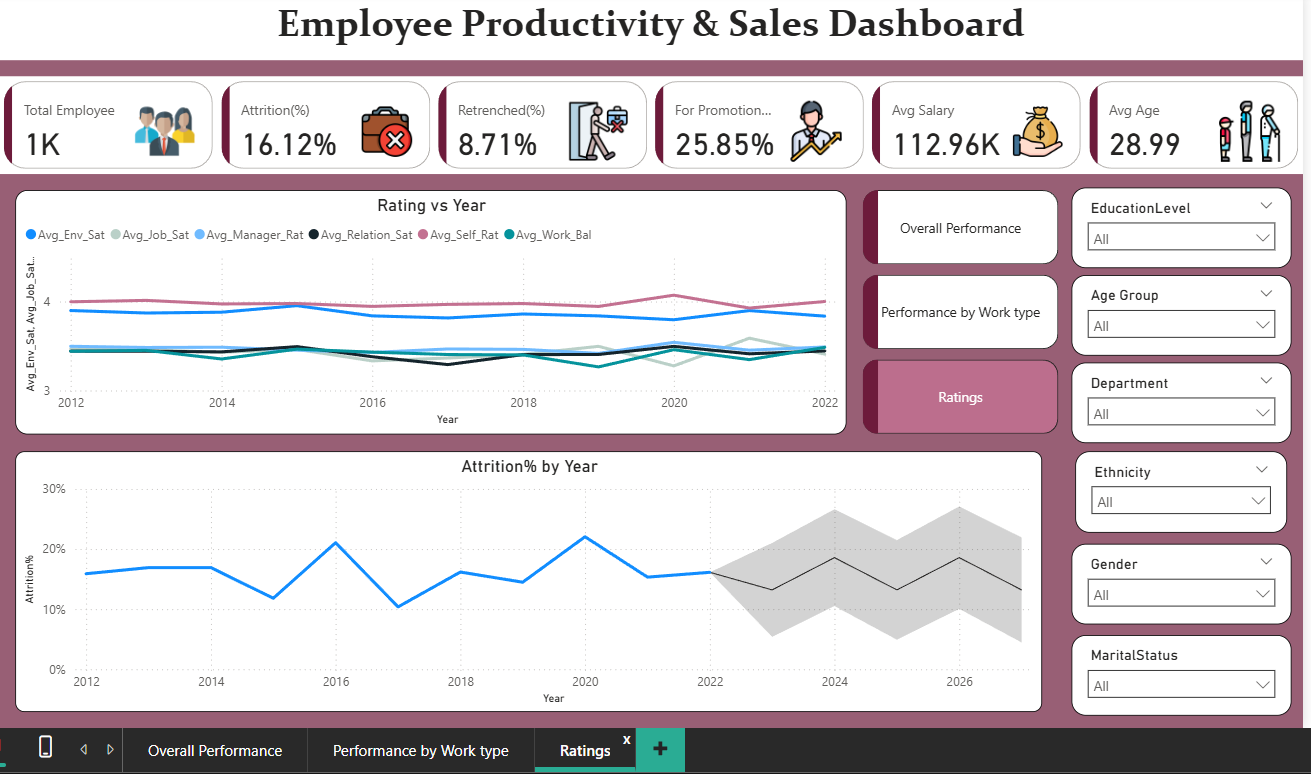

The dashboard page shown, as its layout file describes it:
{"tool":"powerbi","page":{"name":"Ratings","canvas":[1280,720],"ordinal":2},"visuals":[{"type":"textbox","box":[0,0,1280,64],"z":1000},{"type":"slicer","fields":{"Values":["EducationLevel.EducationLevel"]},"box":[1052.2,189.1,216.2,79.5],"z":2000},{"type":"slicer","fields":{"Values":["Employee.Age Group"]},"box":[1052.2,275,216.2,79.5],"z":3000},{"type":"slicer","fields":{"Values":["Employee.Department"]},"box":[1052.2,360.8,216.2,79.5],"z":4000},{"type":"slicer","fields":{"Values":["Employee.Ethnicity"]},"box":[1056,448,208,80],"z":5000},{"type":"slicer","fields":{"Values":["Employee.Gender"]},"box":[1052.2,538.8,216.2,79.5],"z":6000},{"type":"slicer","fields":{"Values":["Employee.MaritalStatus"]},"box":[1052.2,627.8,216.2,79.5],"z":7000},{"type":"lineChart","title":"Rating vs Year","fields":{"Y":["All Measures.Avg_Env_Sat","All Measures.Avg_Job_Sat","All Measures.Avg_Manager_Rat","All Measures.Avg_Relation_Sat","All Measures.Avg_Self_Rat","All Measures.Avg_Work_Bal"],"Category":["Calendar.Date.Variation.Date Hierarchy.Year"]},"box":[16,192,816,240],"z":8000},{"type":"lineChart","fields":{"Y":["All Measures.Attrition%"],"Category":["Calendar.Date.Variation.Date Hierarchy.Year"]},"box":[16,448,1008,256],"z":9000},{"type":"pageNavigator","box":[848,192,192,240],"z":10000},{"type":"cardVisual","fields":{"Data":["All Measures.Total_Employee","All Measures.Attrition%","All Measures.Retrenched%","All Measures.Due for Promotion %","All Measures.Avg_Salary","All Measures.Avg_Age"]},"box":[0,80,1280,96],"z":11000},{"type":"actionButton","box":[848,192,192,80],"z":12000},{"type":"actionButton","box":[848,272,192,80],"z":13000},{"type":"actionButton","box":[848,352,192,80],"z":14000}]}

Visuals, with their boxes in screenshot pixels (x1, y1, x2, y2):
textbox: [17, 0, 1310, 58]
slicer - EducationLevel.EducationLevel: [1080, 184, 1298, 264]
slicer - Employee.Age Group: [1080, 271, 1298, 351]
slicer - Employee.Department: [1080, 358, 1298, 438]
slicer - Employee.Ethnicity: [1084, 446, 1294, 526]
slicer - Employee.Gender: [1080, 537, 1298, 618]
slicer - Employee.MaritalStatus: [1080, 627, 1298, 708]
"Rating vs Year" lineChart: [33, 187, 857, 430]
lineChart - All Measures.Attrition% x Calendar.Date.Variation.Date Hierarchy.Year: [33, 446, 1051, 704]
pageNavigator: [874, 187, 1068, 430]
cardVisual - All Measures.Total_Employee x All Measures.Attrition%: [17, 74, 1310, 171]
actionButton: [874, 187, 1068, 268]
actionButton: [874, 268, 1068, 349]
actionButton: [874, 349, 1068, 430]
